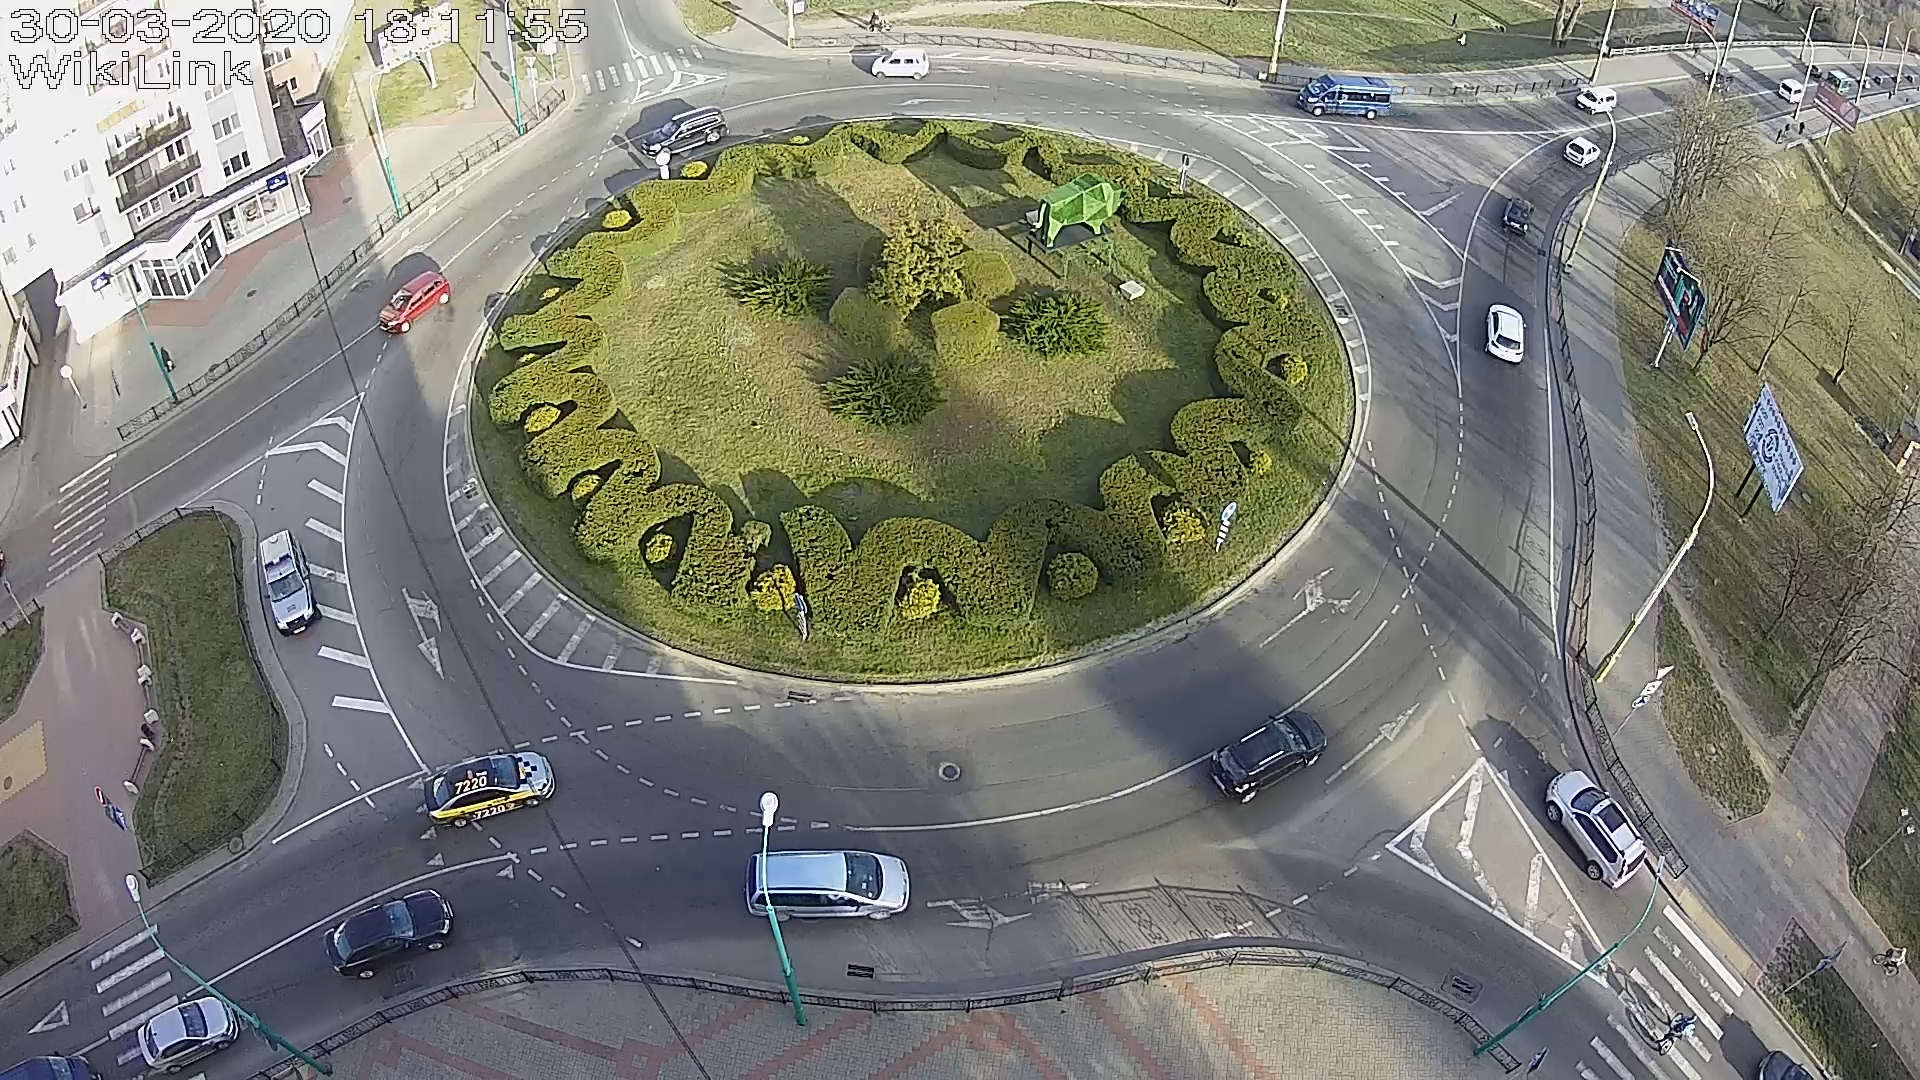car: (1545, 769, 1648, 890), (323, 887, 455, 980), (744, 849, 910, 922), (1209, 709, 1328, 804), (425, 750, 556, 828), (137, 996, 237, 1073), (258, 529, 322, 637), (641, 105, 728, 160), (1296, 73, 1391, 120), (378, 270, 450, 334), (1484, 303, 1528, 364), (872, 47, 930, 79), (1575, 86, 1618, 115), (1503, 196, 1535, 236), (1563, 137, 1601, 169)
